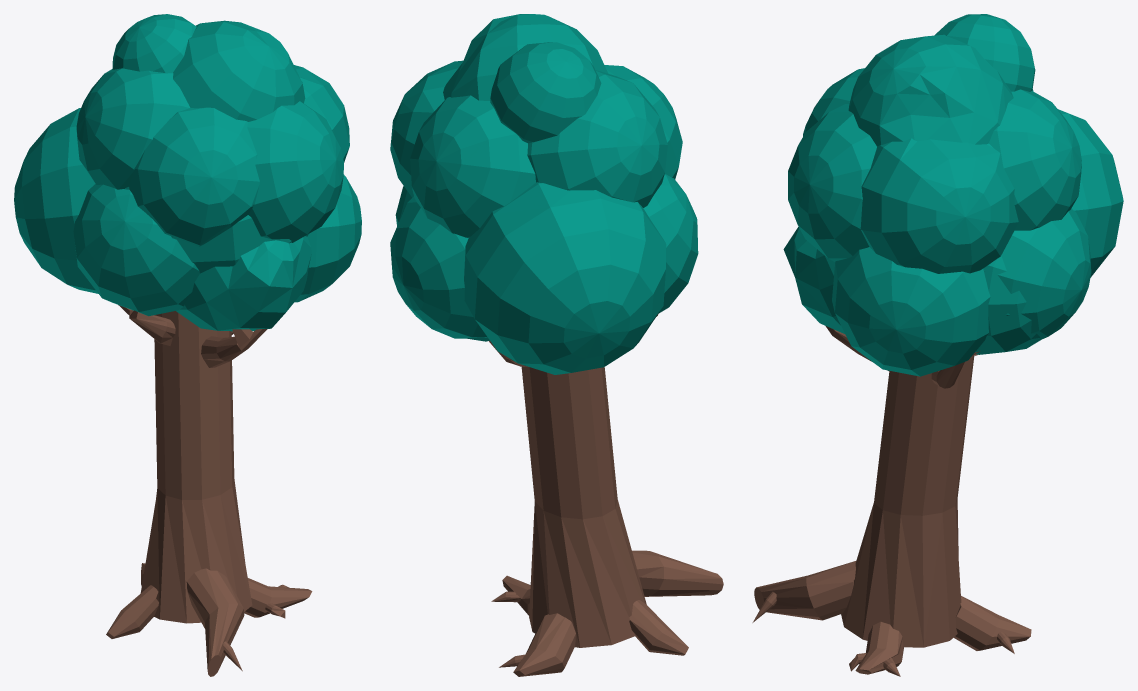
Rendered from Arbolito.glb.
The picture shows the model from 3 angles, left to right: view 1: azimuth 30°, elevation 25°; view 2: azimuth 150°, elevation 25°; view 3: azimuth 270°, elevation 25°; orthographic projection. The views are drawn at different scales.
Visible parts, largest first — view 1: group1806331986, group987925662, group210757748, group1251244104, group1187125581, group1123699727, group1622083029, group1620243302, group1231135656, group1778507930, group32141848, group1180046920 (+5 smaller); view 2: group1123699727, group1806331986, group109289143, group1622083029, group1778507930, group1023453669, group1187125581, group210757748, group504213433, group32141848, group545397719, group987925662 (+2 smaller); view 3: group1806331986, group504213433, group1231135656, group1187125581, group1251244104, group109289143, group1023453669, group1123699727, group1778507930, group32141848, group2073524885, group1620243302 (+3 smaller).
Part boxes in pixels (bbox=[...]): group1806331986: bbox=[140, 311, 252, 623]; group987925662: bbox=[129, 107, 259, 246]; group210757748: bbox=[73, 184, 199, 316]; group1251244104: bbox=[247, 101, 343, 242]; group1187125581: bbox=[173, 20, 305, 121]; group1123699727: bbox=[14, 108, 98, 293]; group1622083029: bbox=[76, 68, 190, 189]; group1620243302: bbox=[176, 236, 311, 331]; group1231135656: bbox=[295, 174, 361, 302]; group1778507930: bbox=[112, 14, 196, 72]; group32141848: bbox=[186, 568, 244, 676]; group1180046920: bbox=[124, 187, 308, 273]; group1123699727: bbox=[464, 182, 666, 374]; group1806331986: bbox=[521, 366, 646, 647]; group109289143: bbox=[410, 95, 535, 237]; group1622083029: bbox=[527, 70, 667, 207]; group1778507930: bbox=[490, 42, 601, 143]; group1023453669: bbox=[390, 196, 487, 338]; group1187125581: bbox=[443, 14, 608, 100]; group210757748: bbox=[643, 174, 698, 313]; group504213433: bbox=[390, 60, 463, 197]; group32141848: bbox=[632, 550, 723, 596]; group545397719: bbox=[513, 613, 575, 676]; group987925662: bbox=[604, 65, 682, 179]; group1806331986: bbox=[841, 355, 974, 647]; group504213433: bbox=[860, 138, 1018, 273]; group1231135656: bbox=[832, 247, 990, 376]; group1187125581: bbox=[848, 34, 1013, 146]; group1251244104: bbox=[788, 104, 876, 261]; group109289143: bbox=[988, 89, 1081, 230]; group1023453669: bbox=[984, 209, 1091, 344]; group1123699727: bbox=[1058, 109, 1123, 277]; group1778507930: bbox=[934, 14, 1035, 91]; group32141848: bbox=[754, 561, 856, 620]; group2073524885: bbox=[975, 256, 1040, 354]; group1620243302: bbox=[783, 227, 844, 333].
Size of the model in its own units: 0.6557 by 1.31 by 0.7006.
